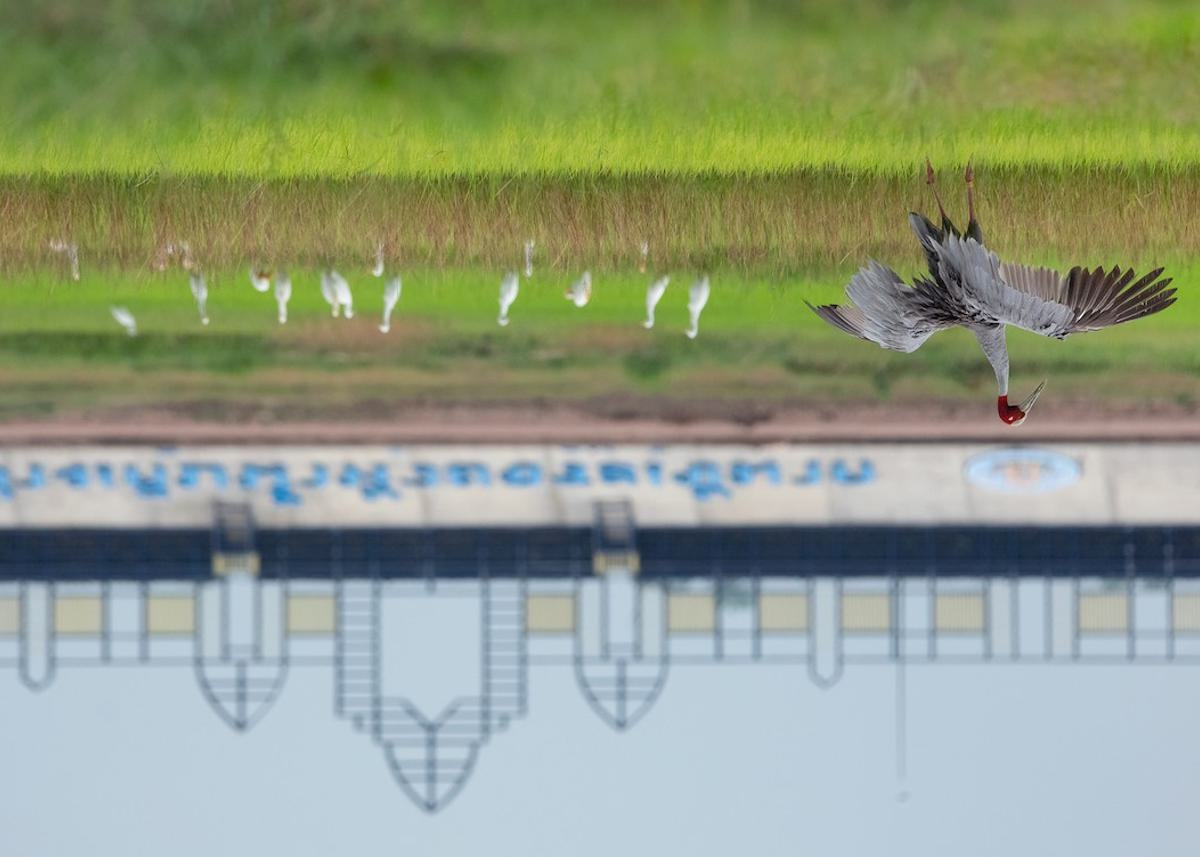crane: (806, 136, 1178, 455)
